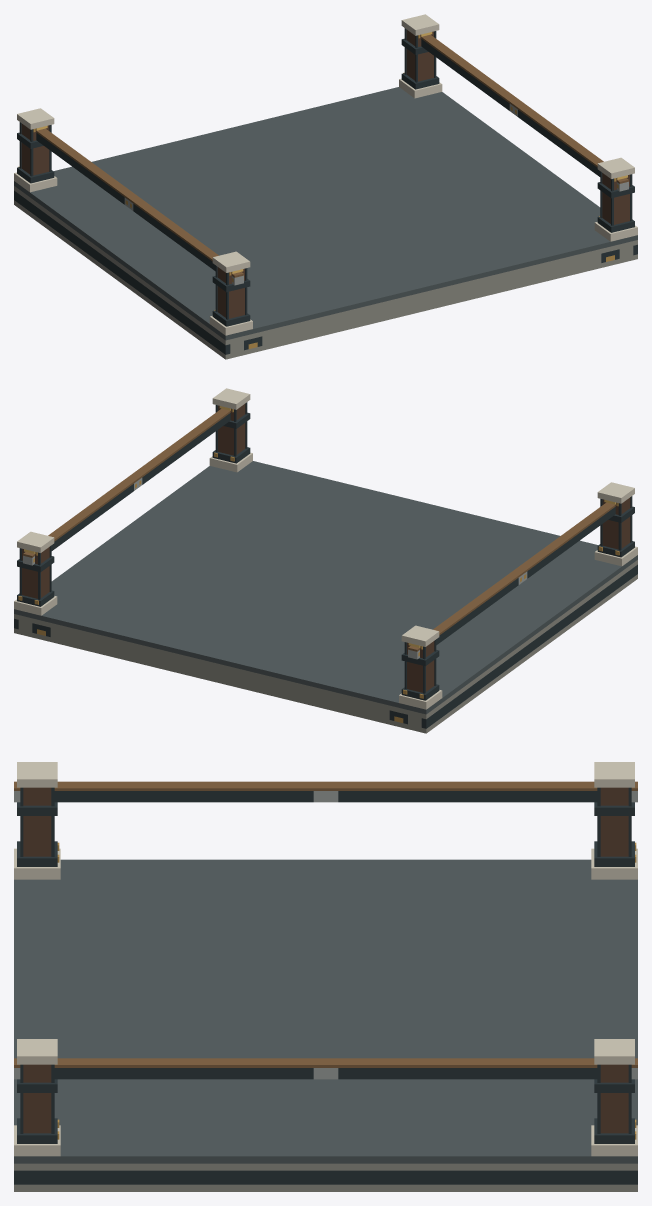
The picture shows the model from 3 angles, top to bottom: view 1: azimuth 30°, elevation 25°; view 2: azimuth 150°, elevation 25°; view 3: azimuth 270°, elevation 25°; orthographic projection. The views are drawn at different scales.
Parts seen in each view (by area): view 1: 既有9m桥面, 既有桥栏立柱 (×4), 共享交通护栏横杆 (×4); view 2: 既有9m桥面, 既有桥栏立柱 (×4), 共享交通护栏横杆 (×4); view 3: 既有9m桥面, 共享交通护栏横杆 (×4), 既有桥栏立柱 (×4).
Part boxes in pixels (bbox=[...]): 既有9m桥面: bbox=[14, 87, 637, 359]; 既有桥栏立柱 (×4): bbox=[14, 14, 637, 335]; 共享交通护栏横杆 (×4): bbox=[36, 34, 628, 285]; 既有9m桥面: bbox=[14, 461, 637, 733]; 既有桥栏立柱 (×4): bbox=[14, 388, 637, 709]; 共享交通护栏横杆 (×4): bbox=[23, 408, 615, 659]; 既有9m桥面: bbox=[14, 859, 637, 1191]; 共享交通护栏横杆 (×4): bbox=[14, 781, 637, 1079]; 既有桥栏立柱 (×4): bbox=[14, 762, 637, 1156].
Size of the model in its own units: 9 by 1.9 by 8.
Materials: 9 (9 with a texture image).
